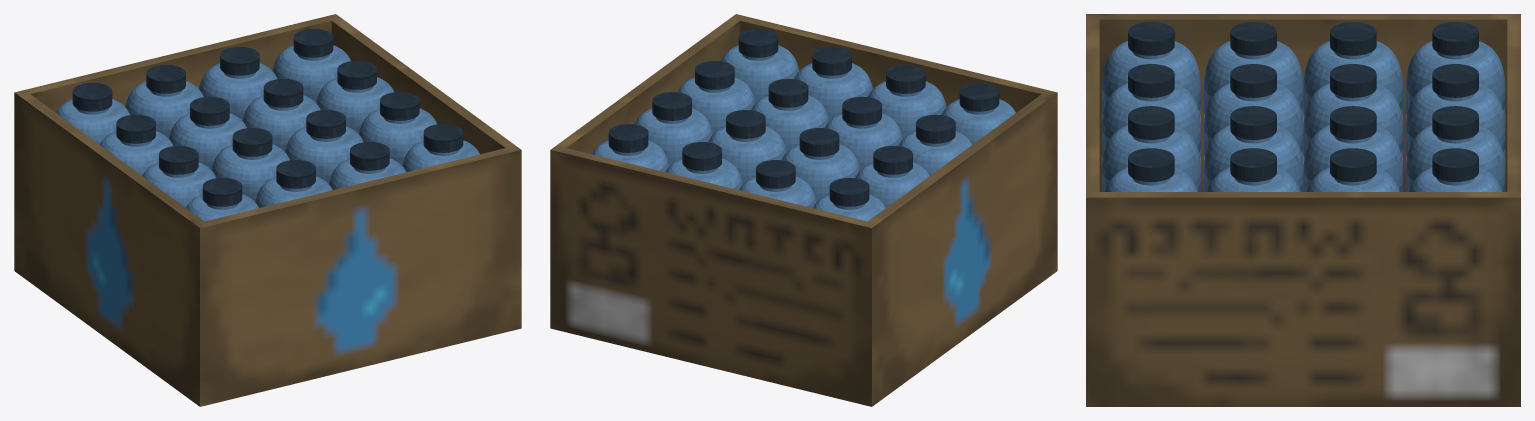
The model's file is Water Supply.obj.
3 views of the same model, side by side, from view 1: azimuth 30°, elevation 25°; view 2: azimuth 150°, elevation 25°; view 3: azimuth 270°, elevation 25° (orthographic). The views are drawn at different scales.
Visible parts, largest first — view 1: Water_Supply_Material.002, Water_Supply_WaterBottle; view 2: Water_Supply_Material.002, Water_Supply_WaterBottle; view 3: Water_Supply_Material.002, Water_Supply_WaterBottle.
Part boxes in pixels (x1=…): Water_Supply_Material.002: x1=14, y1=14, x2=521, y2=406; Water_Supply_WaterBottle: x1=56, y1=29, x2=479, y2=221; Water_Supply_Material.002: x1=550, y1=14, x2=1057, y2=406; Water_Supply_WaterBottle: x1=592, y1=29, x2=1015, y2=221; Water_Supply_Material.002: x1=1086, y1=14, x2=1520, y2=406; Water_Supply_WaterBottle: x1=1101, y1=22, x2=1505, y2=191.
Size of the model in its own units: 2.02 by 1.13 by 2.02.
